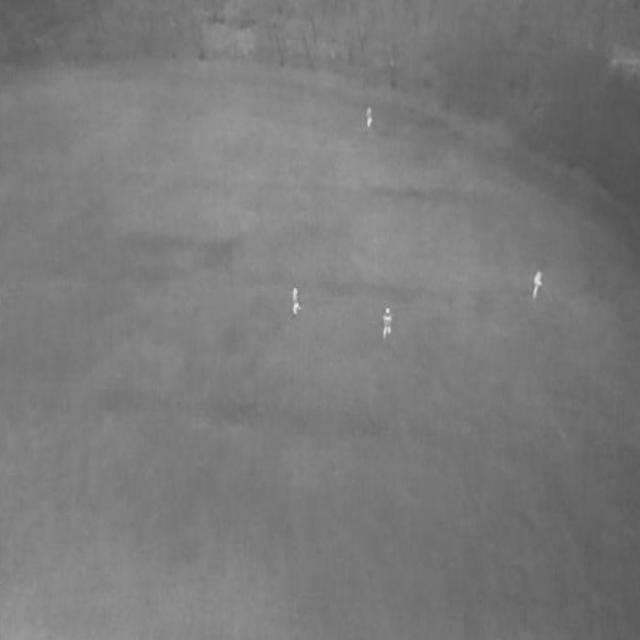person: (291, 286, 303, 319), (381, 307, 392, 342), (532, 271, 544, 302), (365, 107, 373, 130)
